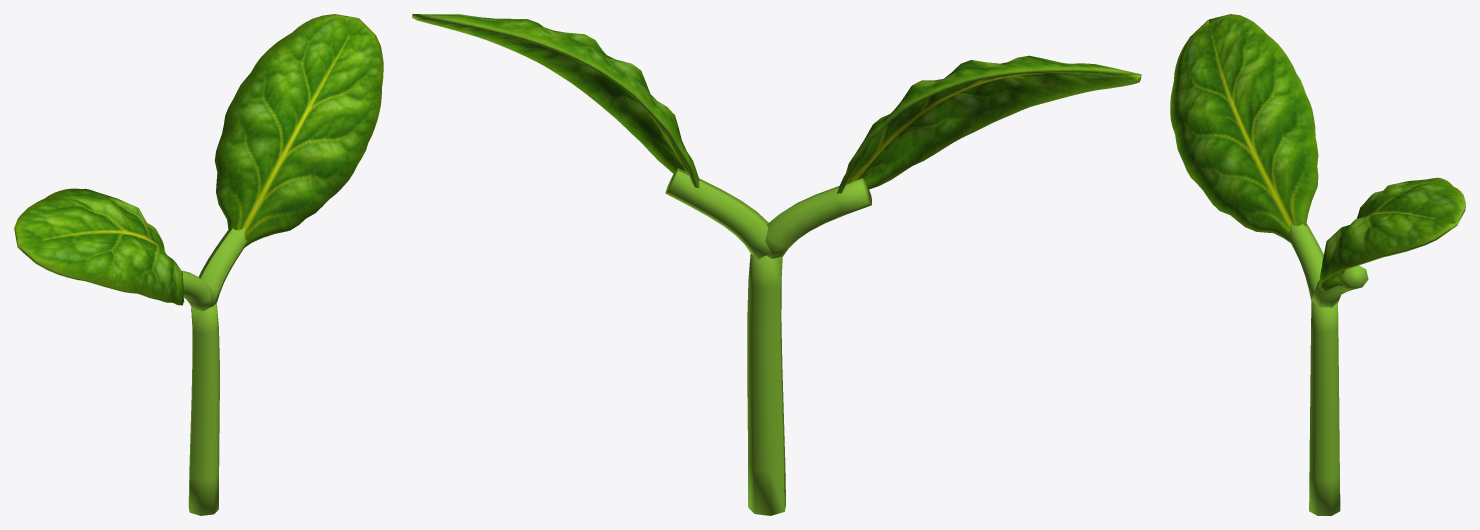
The model's file is NP_Spinach_Sprout.fbx.
3 renders of one model, left to right at view 1: azimuth 30°, elevation 25°; view 2: azimuth 150°, elevation 25°; view 3: azimuth 270°, elevation 25°, orthographic. The views are drawn at different scales.
Visible parts, largest first — view 1: NP_Spinach_Sprout; view 2: NP_Spinach_Sprout; view 3: NP_Spinach_Sprout.
Part boxes in pixels (bbox=[...]): NP_Spinach_Sprout: bbox=[14, 14, 383, 515]; NP_Spinach_Sprout: bbox=[412, 14, 1141, 515]; NP_Spinach_Sprout: bbox=[1170, 14, 1465, 515].
Bounding box in the file's own units: 27.43 × 22.16 × 14.74.
